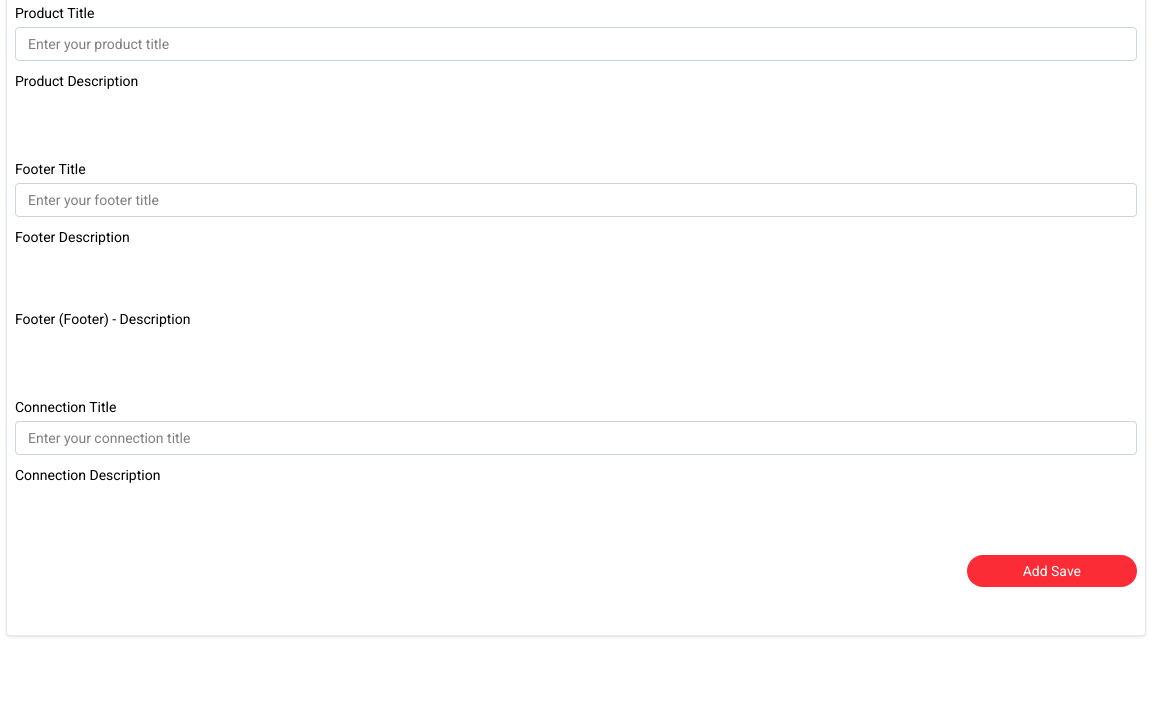
Test: TitleForPages Component › shows loading state while saving
(page scrolled)
Click the button "Add Save" at x=1052, y=571, box [967, 555, 1137, 587]
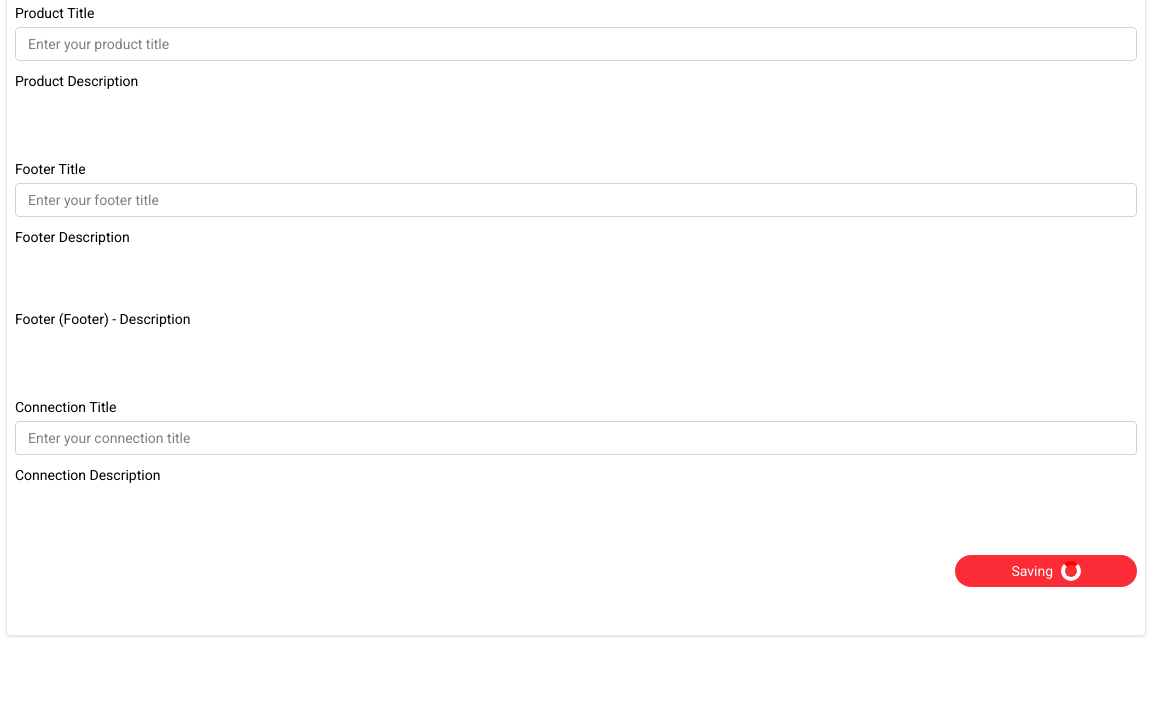
Check: the text "Saving" is shown, box [1011, 561, 1053, 581]
